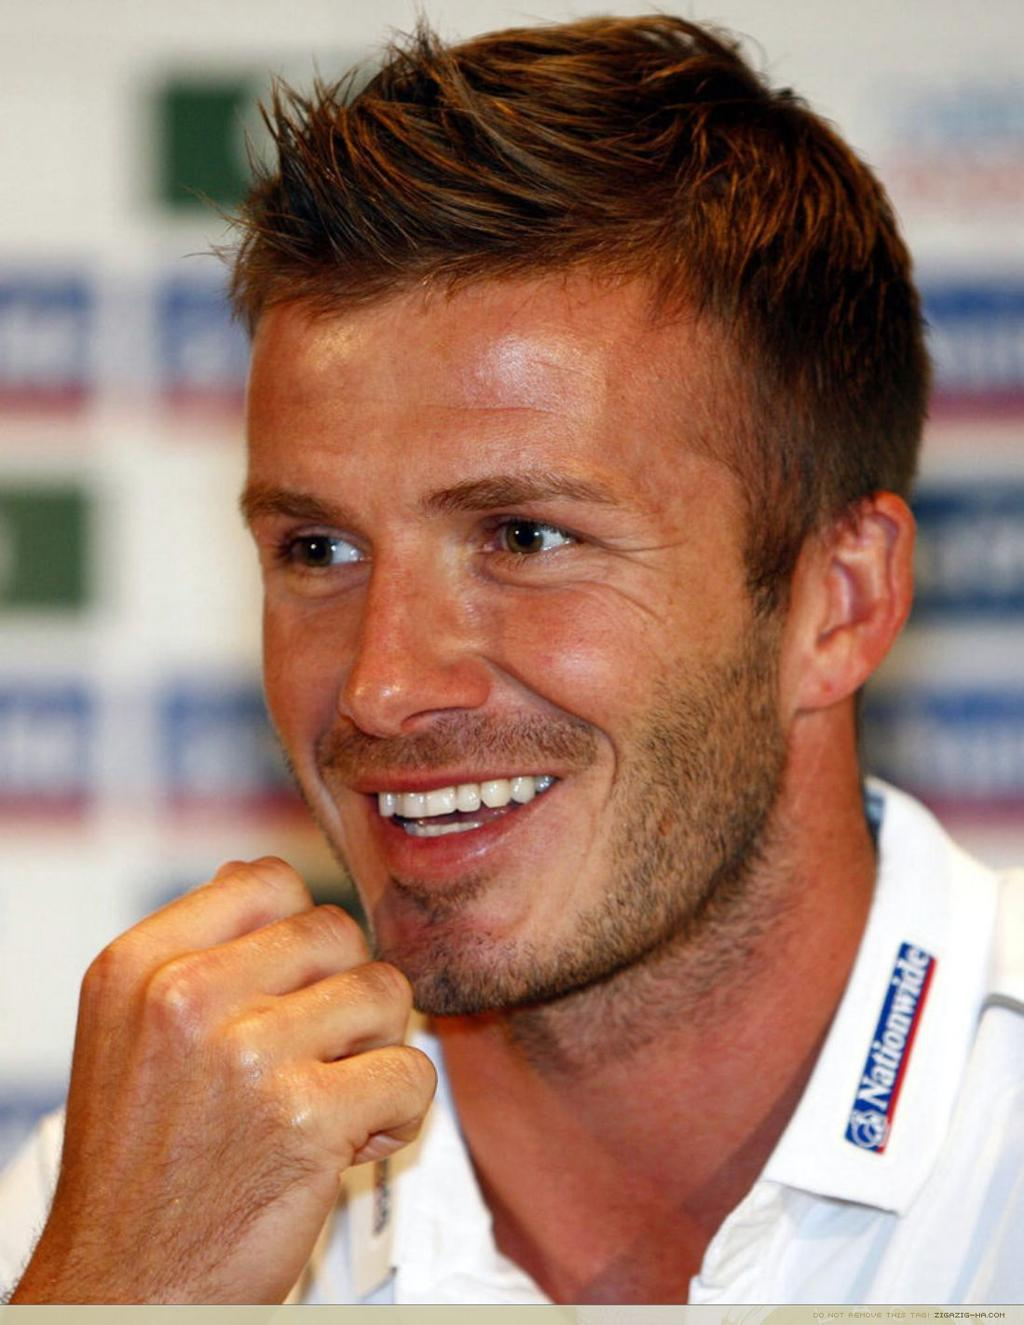face: (249, 296, 795, 1012)
